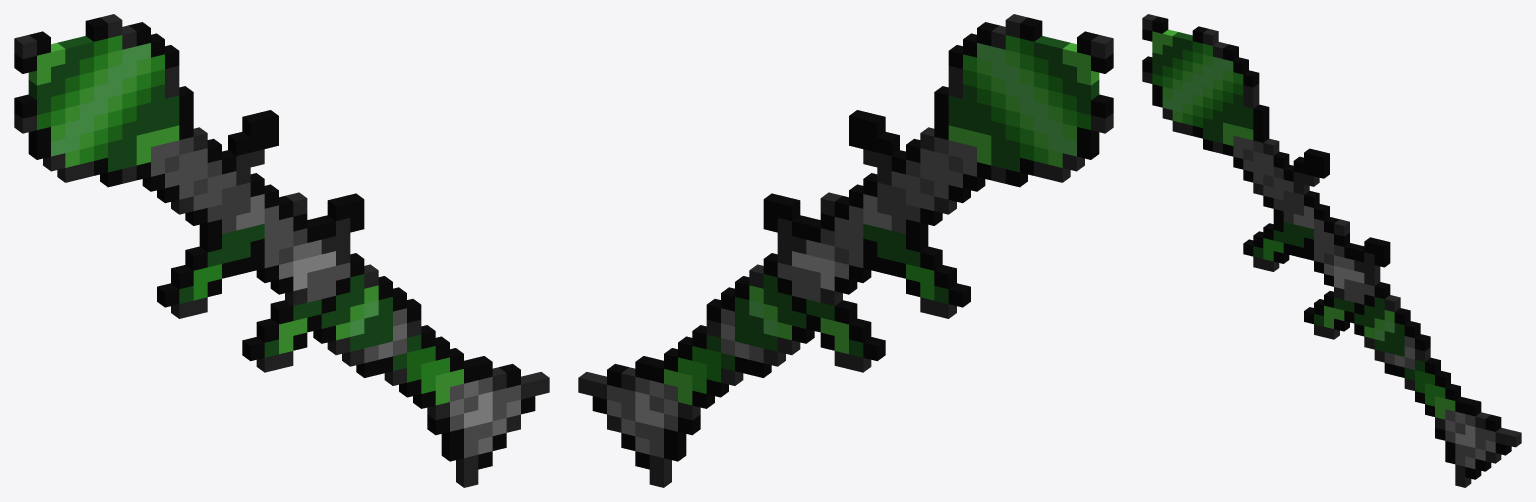
File: RPG.glb
3 views of the same model, side by side, from view 1: azimuth 30°, elevation 25°; view 2: azimuth 150°, elevation 25°; view 3: azimuth 330°, elevation 25° (orthographic). The views are drawn at different scales.
Parts seen in each view (by area): view 1: Untitled.001; view 2: Untitled.001; view 3: Untitled.001.
Boxes of the visible parts, bbox=[...] form: Untitled.001: bbox=[14, 14, 549, 487]; Untitled.001: bbox=[578, 14, 1113, 487]; Untitled.001: bbox=[1142, 14, 1521, 487].
Bounding box in the file's own units: 9.25 × 9.25 × 0.25.
1 material, 1 textured.
